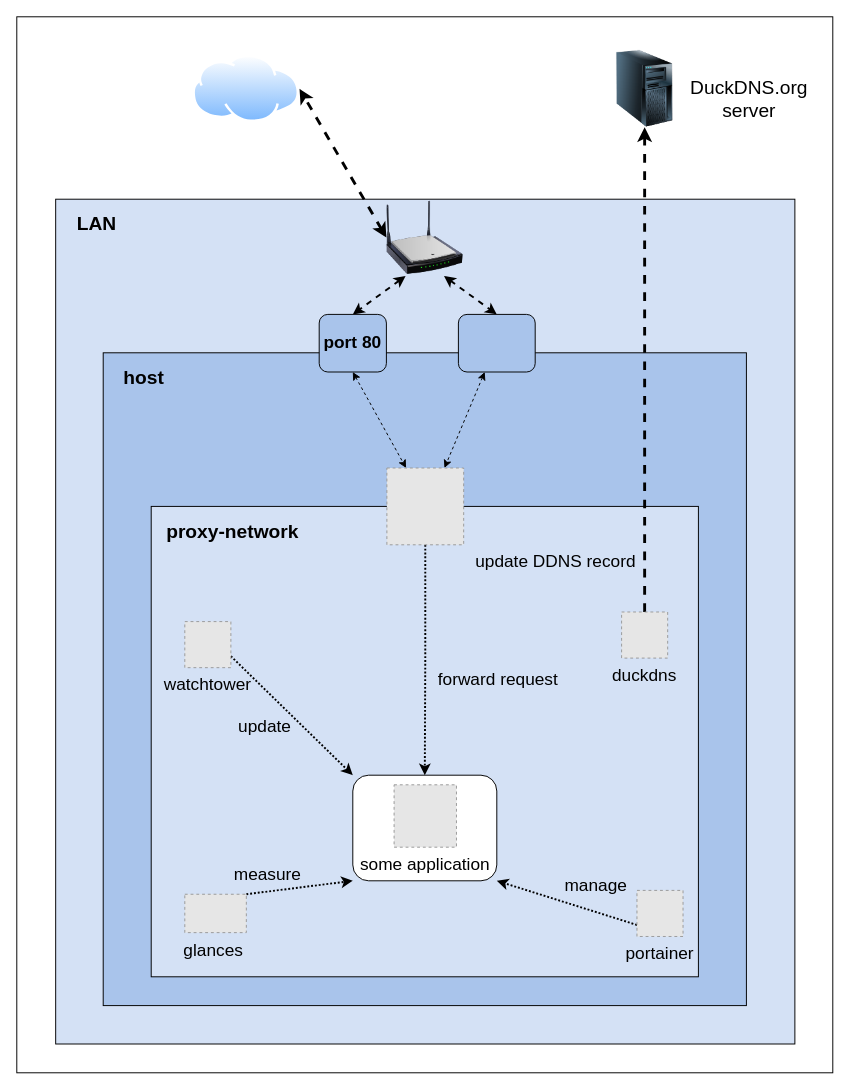
Some shapes in this 850 by 1090 pixel diagram are drawn without their labels. Grey dashed boxes stand in for pictures. The centre of each missing label's shape, as x and y in pixels:
port 443: the point at 496,342
WEB: the point at 245,88
